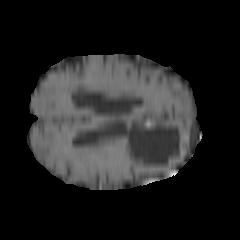glioma: (61, 66, 189, 171)
